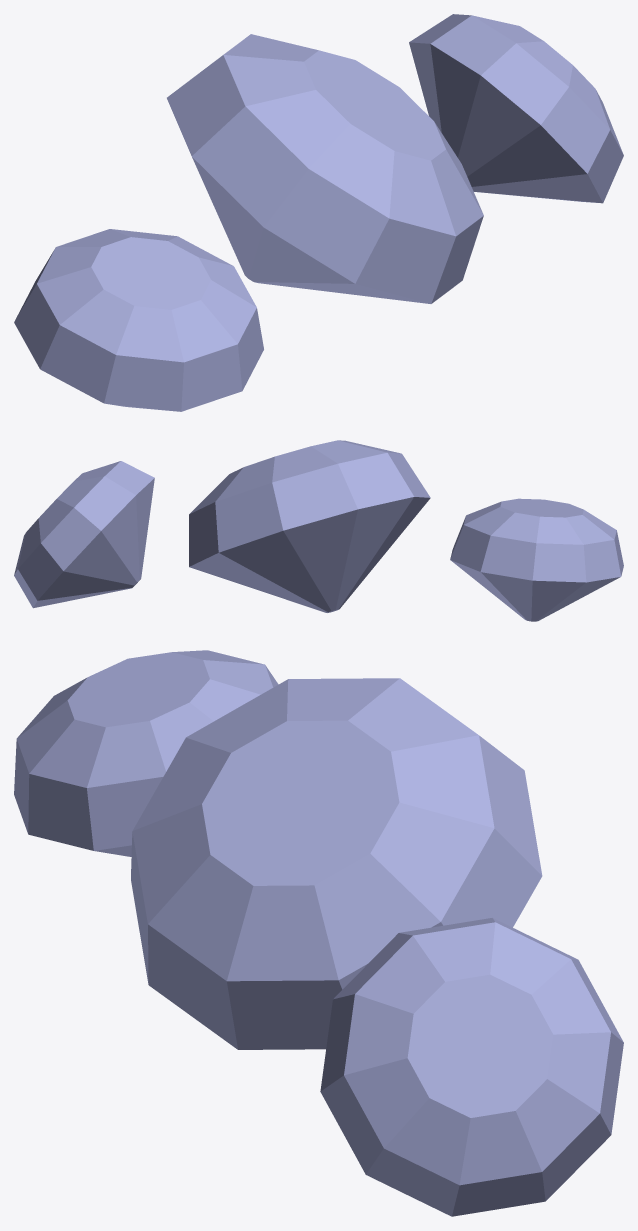
3 renders of one model, top to bottom at view 1: azimuth 30°, elevation 25°; view 2: azimuth 150°, elevation 25°; view 3: azimuth 270°, elevation 25°, orthographic. The views are drawn at different scales.
Visible parts, largest first — view 1: TI027 / individually faceted stone 1, TI027 / individually faceted stone 0, TI027 / individually faceted stone 2; view 2: TI027 / individually faceted stone 1, TI027 / individually faceted stone 0, TI027 / individually faceted stone 2; view 3: TI027 / individually faceted stone 1, TI027 / individually faceted stone 2, TI027 / individually faceted stone 0.
Part boxes in pixels (bbox=[...]): TI027 / individually faceted stone 1: bbox=[167, 34, 483, 303]; TI027 / individually faceted stone 0: bbox=[14, 229, 263, 411]; TI027 / individually faceted stone 2: bbox=[409, 14, 623, 203]; TI027 / individually faceted stone 1: bbox=[189, 440, 430, 612]; TI027 / individually faceted stone 0: bbox=[450, 498, 623, 621]; TI027 / individually faceted stone 2: bbox=[14, 461, 154, 608]; TI027 / individually faceted stone 1: bbox=[131, 678, 542, 1049]; TI027 / individually faceted stone 2: bbox=[320, 918, 623, 1216]; TI027 / individually faceted stone 0: bbox=[14, 650, 278, 856].
Bounding box in the file's own units: 2.54 × 0.8889 × 1.57.
